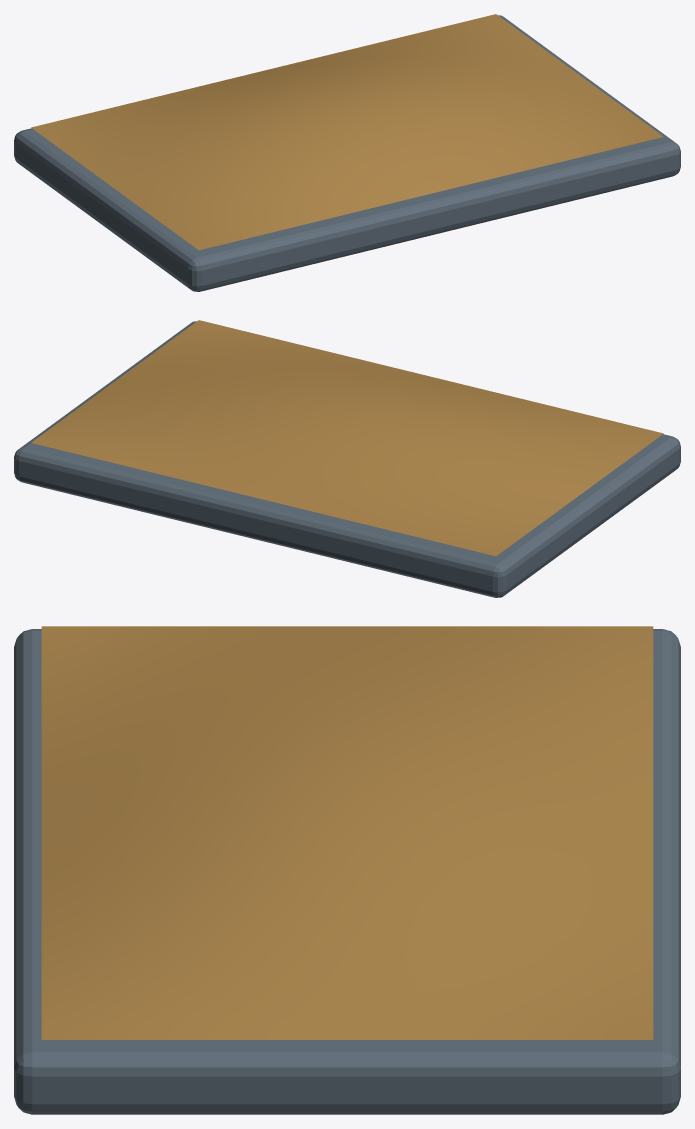
File: blender_mirrored_no_tangents.glb
3 renders of one model, top to bottom at view 1: azimuth 30°, elevation 25°; view 2: azimuth 150°, elevation 25°; view 3: azimuth 270°, elevation 25°, orthographic. The views are drawn at different scales.
Parts seen in each view (by area): view 1: MirroredNormalCoupon, CouponBase; view 2: MirroredNormalCoupon, CouponBase; view 3: MirroredNormalCoupon, CouponBase.
Boxes of the visible parts, x1,y1,x2,y2 form: MirroredNormalCoupon: (31, 14, 663, 250); CouponBase: (14, 15, 680, 291); MirroredNormalCoupon: (31, 320, 663, 556); CouponBase: (14, 321, 680, 597); MirroredNormalCoupon: (41, 626, 653, 1039); CouponBase: (14, 629, 680, 1114).
Size of the model in its own units: 3.38 by 0.43 by 2.18.
